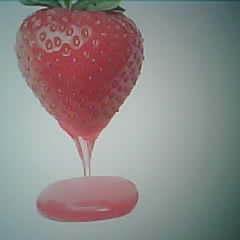straw-ripe: (15, 4, 144, 141)
